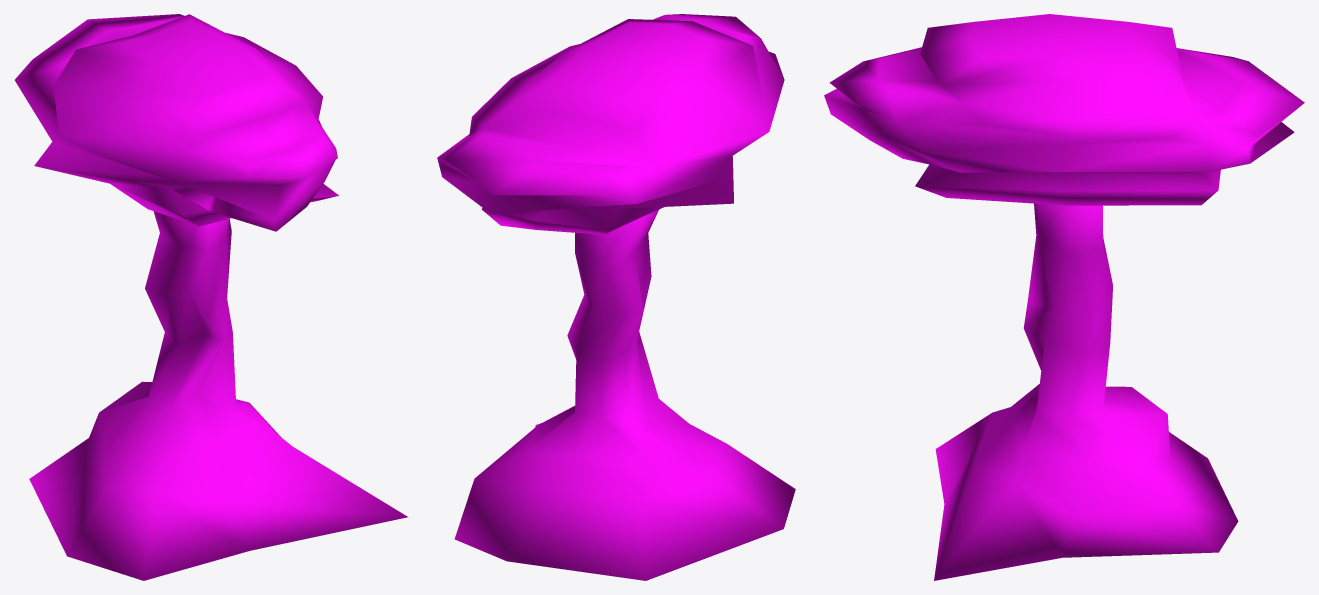
Rendered from rock-set-desert-07.glb.
3 renders of one model, left to right at view 1: azimuth 30°, elevation 25°; view 2: azimuth 150°, elevation 25°; view 3: azimuth 270°, elevation 25°, orthographic. The views are drawn at different scales.
Visible parts, largest first — view 1: Cube_011-mesh; view 2: Cube_011-mesh; view 3: Cube_011-mesh.
Part boxes in pixels (x1=…): Cube_011-mesh: x1=14, y1=14, x2=408, y2=580; Cube_011-mesh: x1=437, y1=14, x2=795, y2=580; Cube_011-mesh: x1=824, y1=14, x2=1304, y2=580.
Size of the model in its own units: 1.86 by 2.76 by 2.56.
